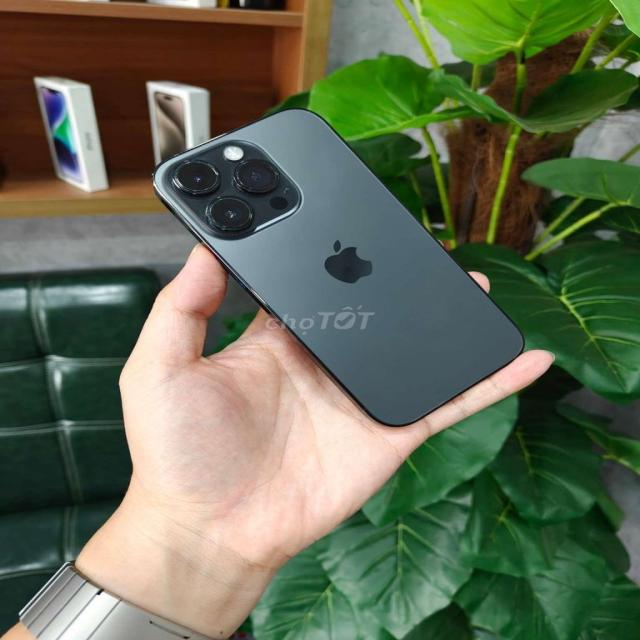gen_14: (148, 104, 530, 431)
